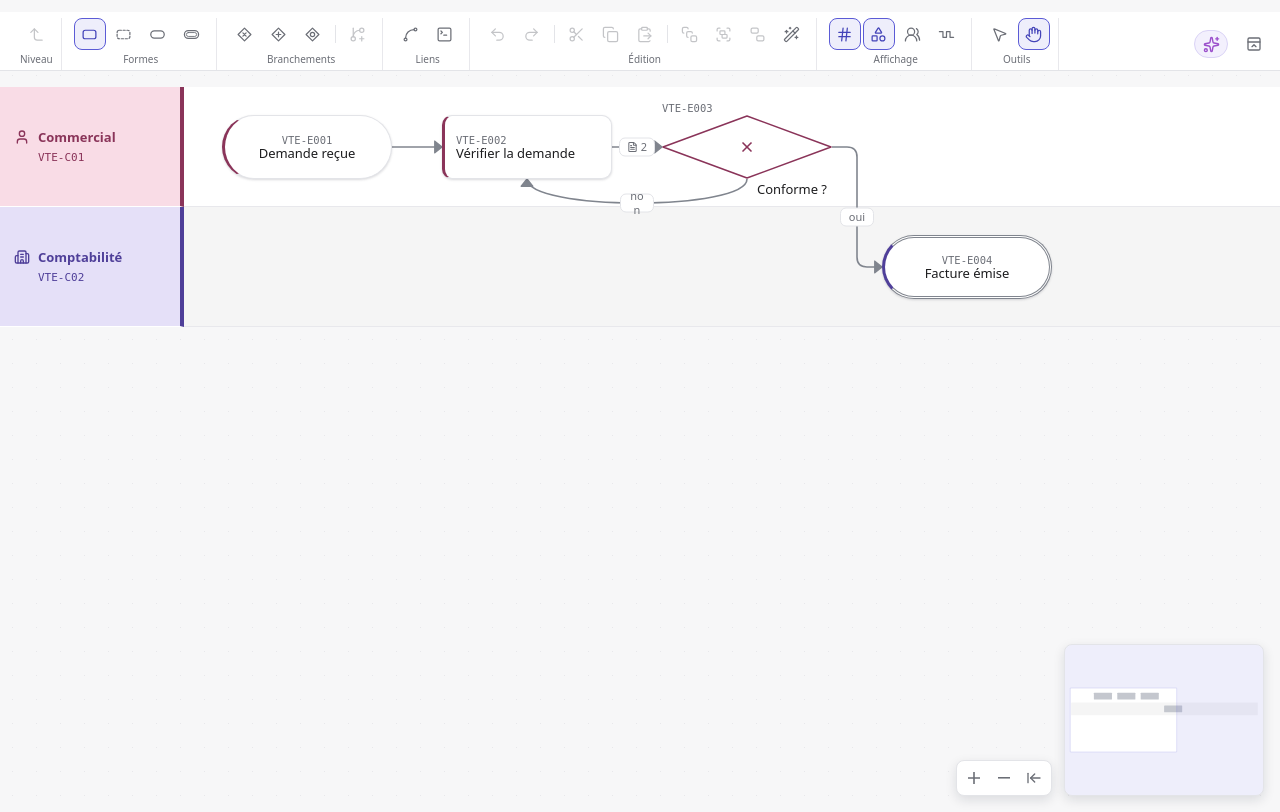
the ribbon folded (B-2.1-33, AR-90) › unfolded by default; its button and Ctrl+F1 fold it to a thin line with the button, kept as a preference
Click the button with test id "ribbon-fold": click(1254, 44) [1240,30,1268,58]
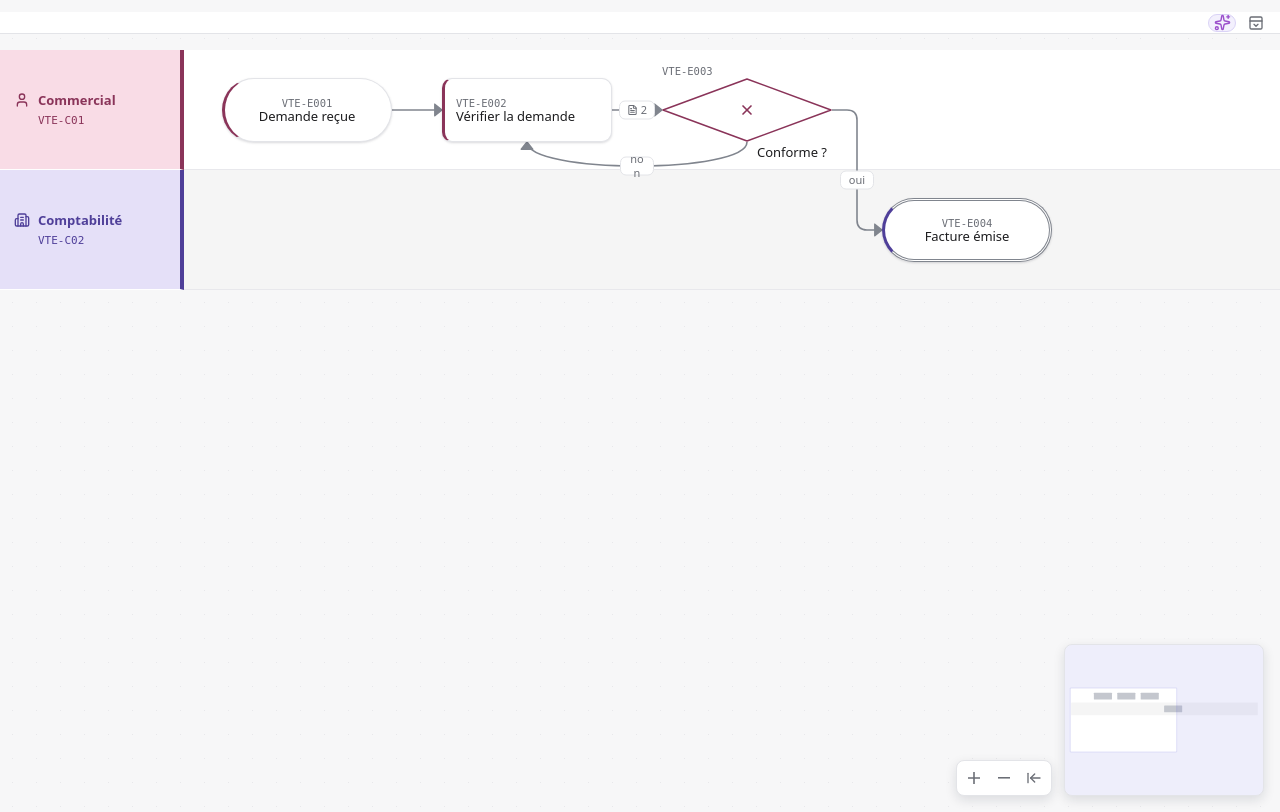
Check: the element with test id "ribbon" is gone
Check: the button with test id "ribbon-fold" is collapsed, box [1244,14,1268,32]
Type keys "{Control>}{F1}{/Control}"
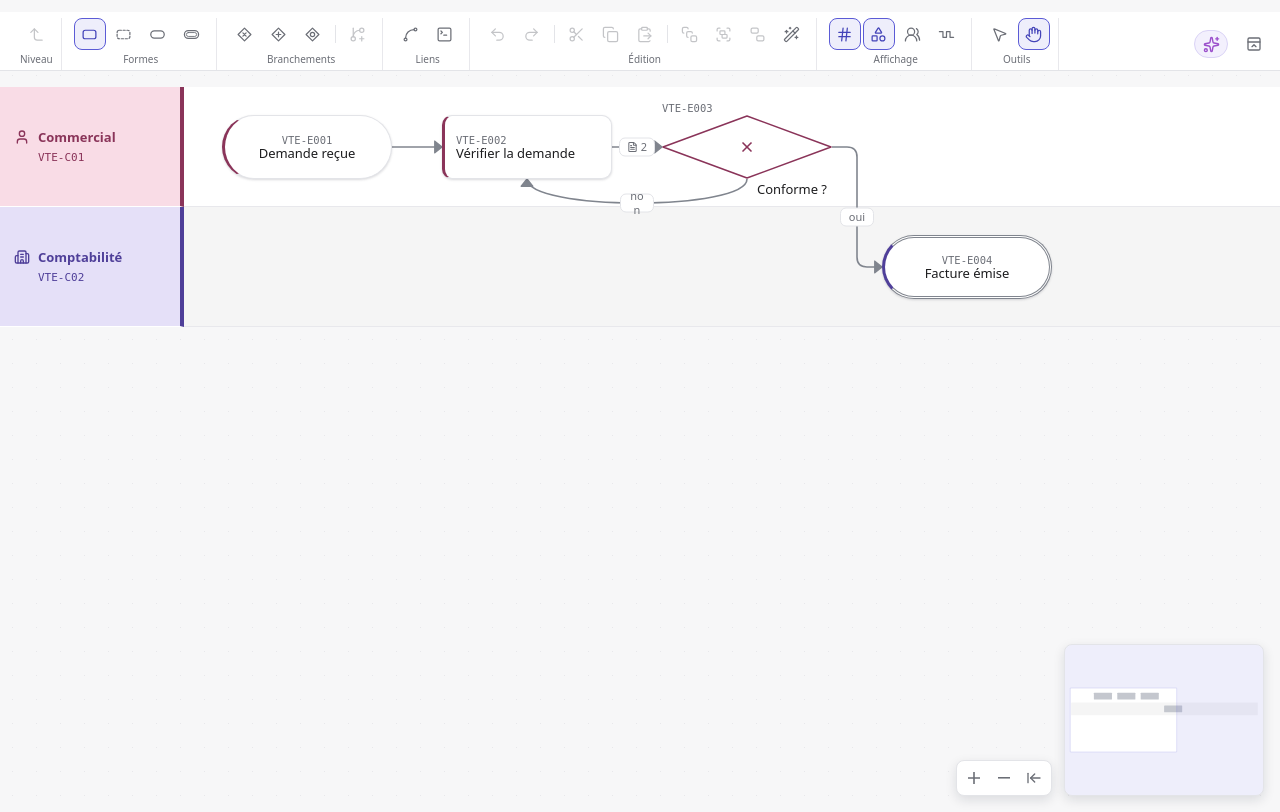
Check: the element with test id "ribbon" is shown, box [0,12,1279,71]
